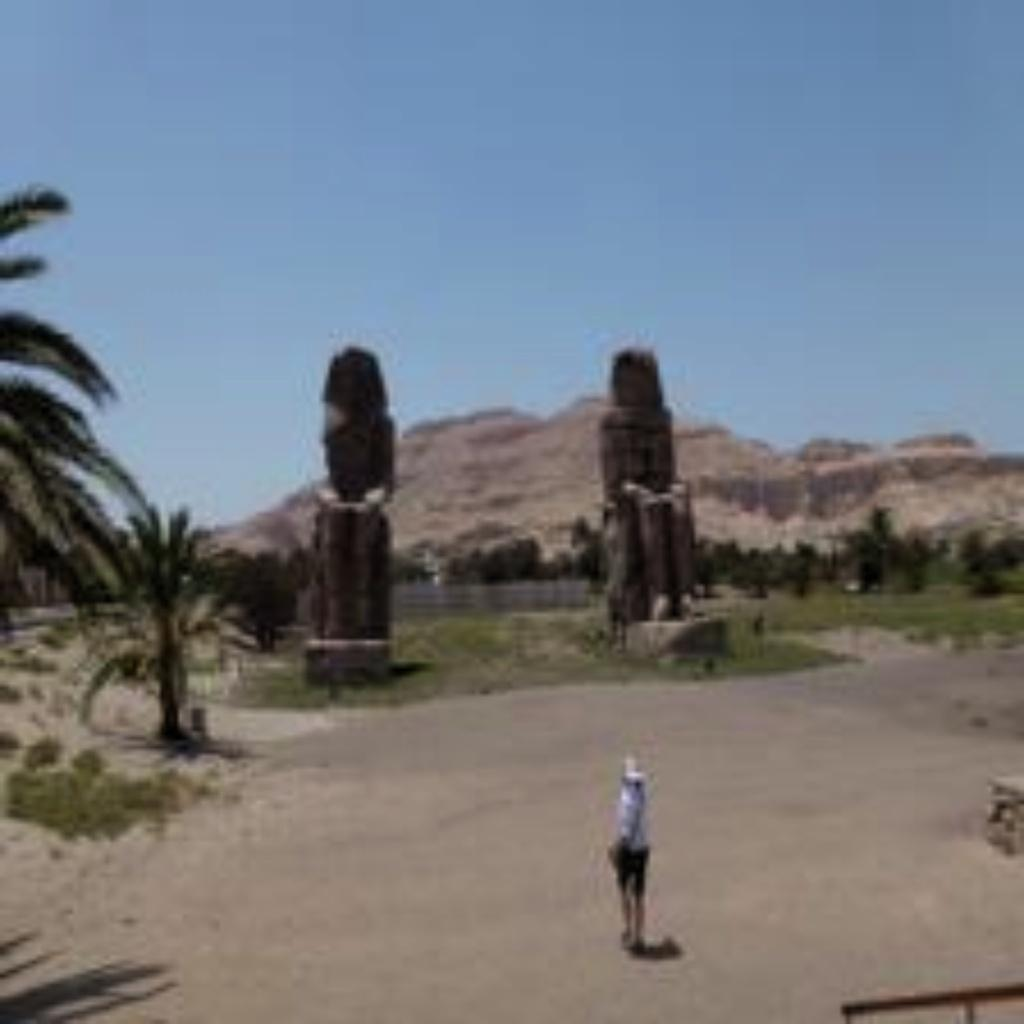Colossoi of Memnon: (288, 338, 407, 686), (586, 338, 708, 640)
